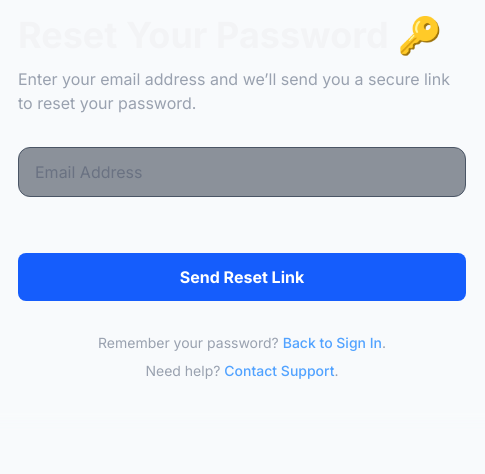
PasswordResetRequestForm › shows server error message
The width and height of the screenshot is (485, 474).
Type "test@example.com" into the field labelled "Email Address" at (242, 172), box [18,147,466,197]
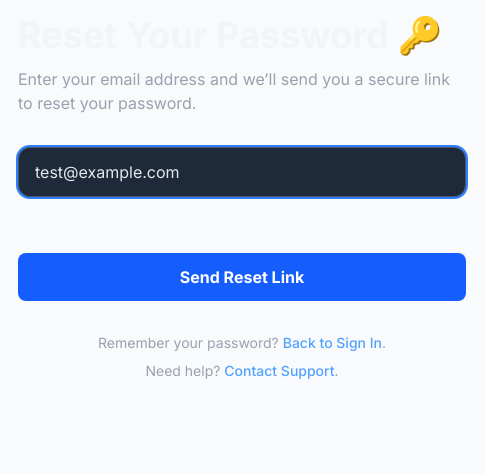
Click the button at (242, 277), box [18,253,466,301]
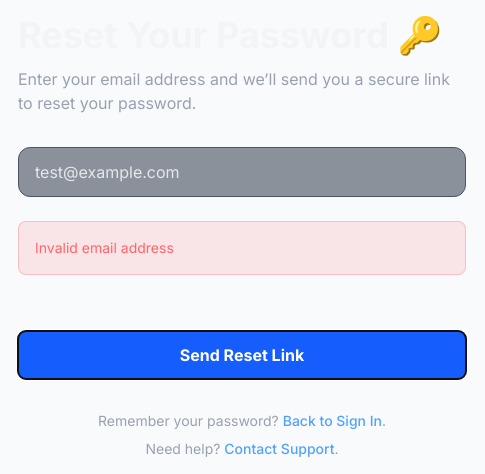
Check: the text "Invalid email address" is shown, box [35,239,174,256]
